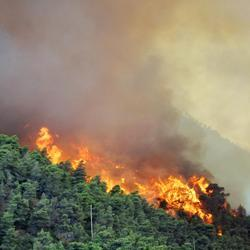fire: (155, 177, 202, 206), (38, 126, 58, 158)
